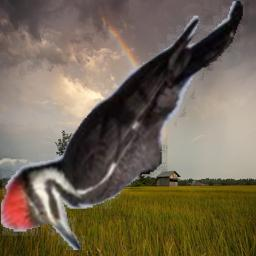Woodpecker: (1, 1, 256, 250)
